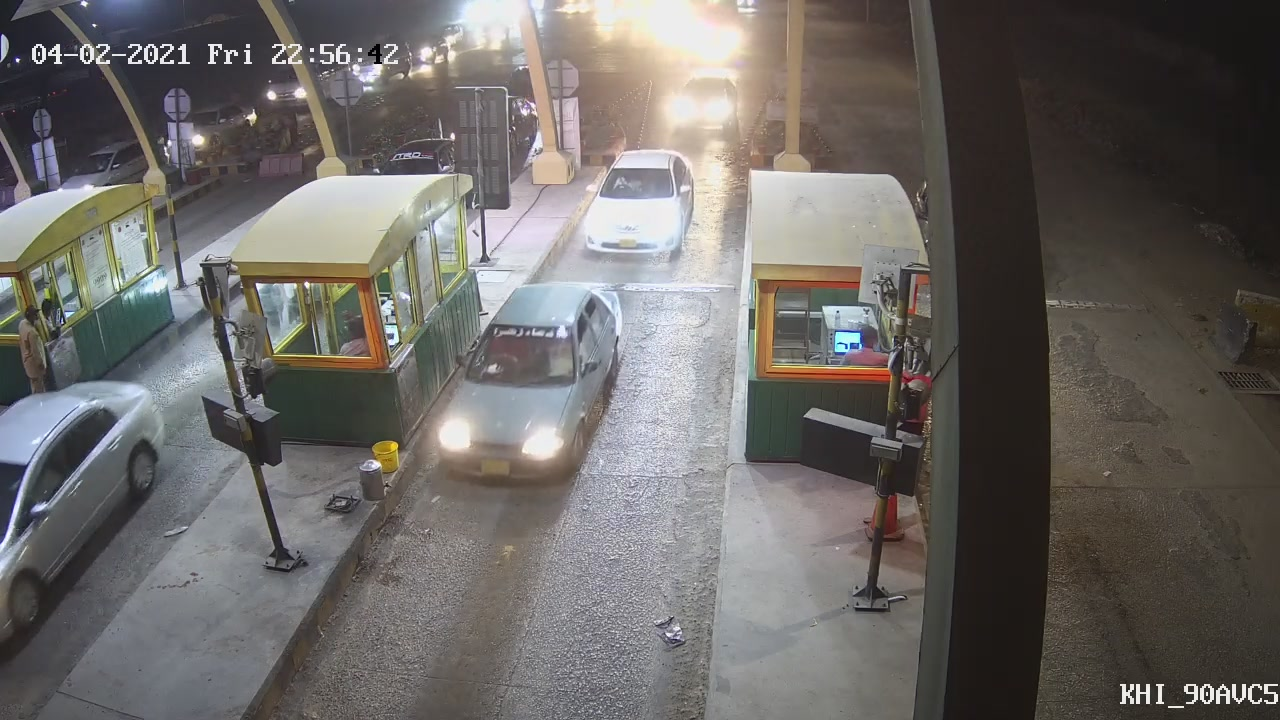F1: (430, 276, 622, 480), (576, 148, 700, 256)
